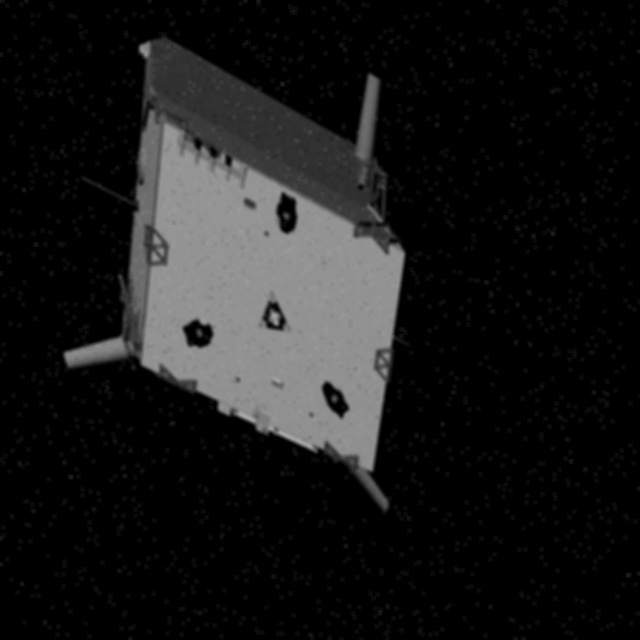medium_debris: (44, 10, 464, 526)
